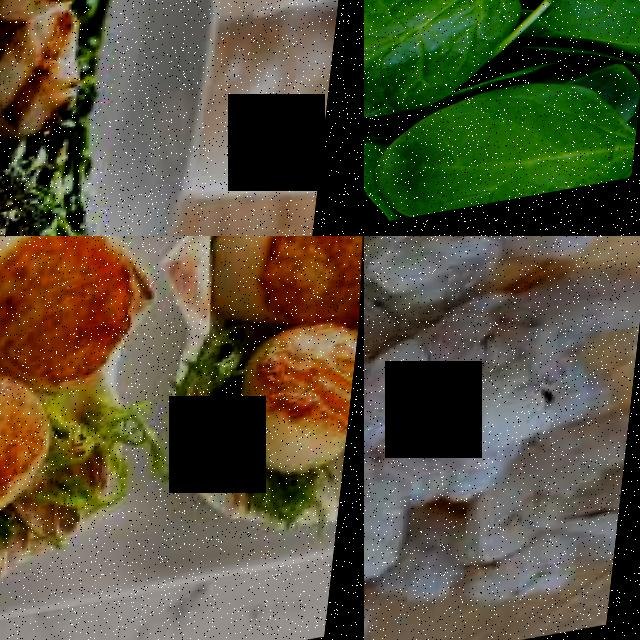sea scallops: (0, 19, 94, 151), (0, 0, 119, 32)
spinach: (380, 75, 640, 233), (364, 0, 548, 141), (0, 236, 148, 404), (240, 336, 364, 493), (207, 236, 364, 351), (0, 393, 65, 537), (553, 0, 640, 79)
